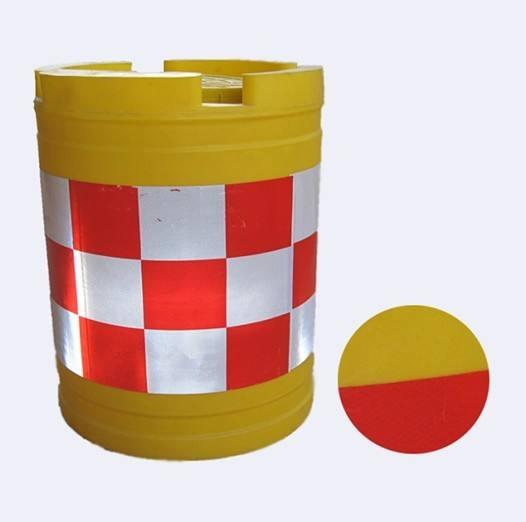sign: (23, 45, 320, 459)
